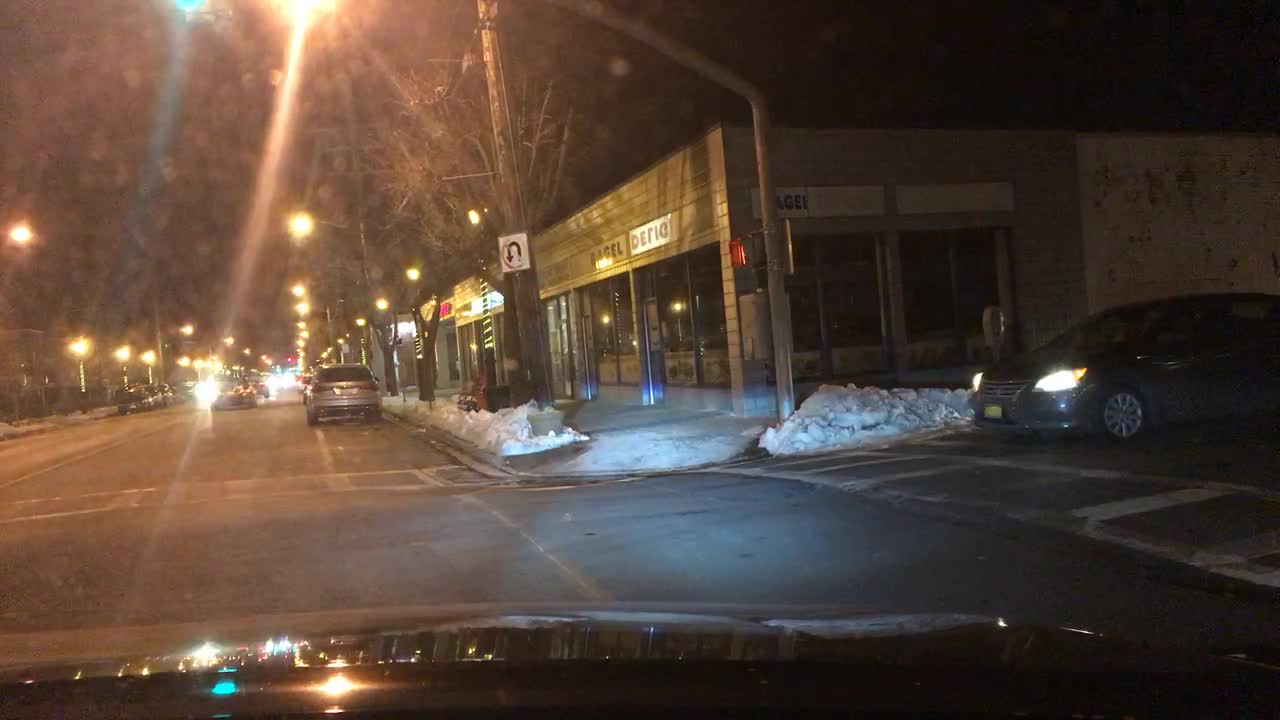car: (965, 286, 1276, 445), (305, 363, 381, 426), (209, 378, 259, 413), (112, 383, 150, 415), (143, 381, 167, 411), (245, 373, 272, 399), (193, 378, 223, 401), (173, 379, 197, 400), (160, 381, 175, 406), (299, 375, 309, 408)
traffic light: (732, 232, 763, 267)
traffic sign: (496, 232, 530, 274)
